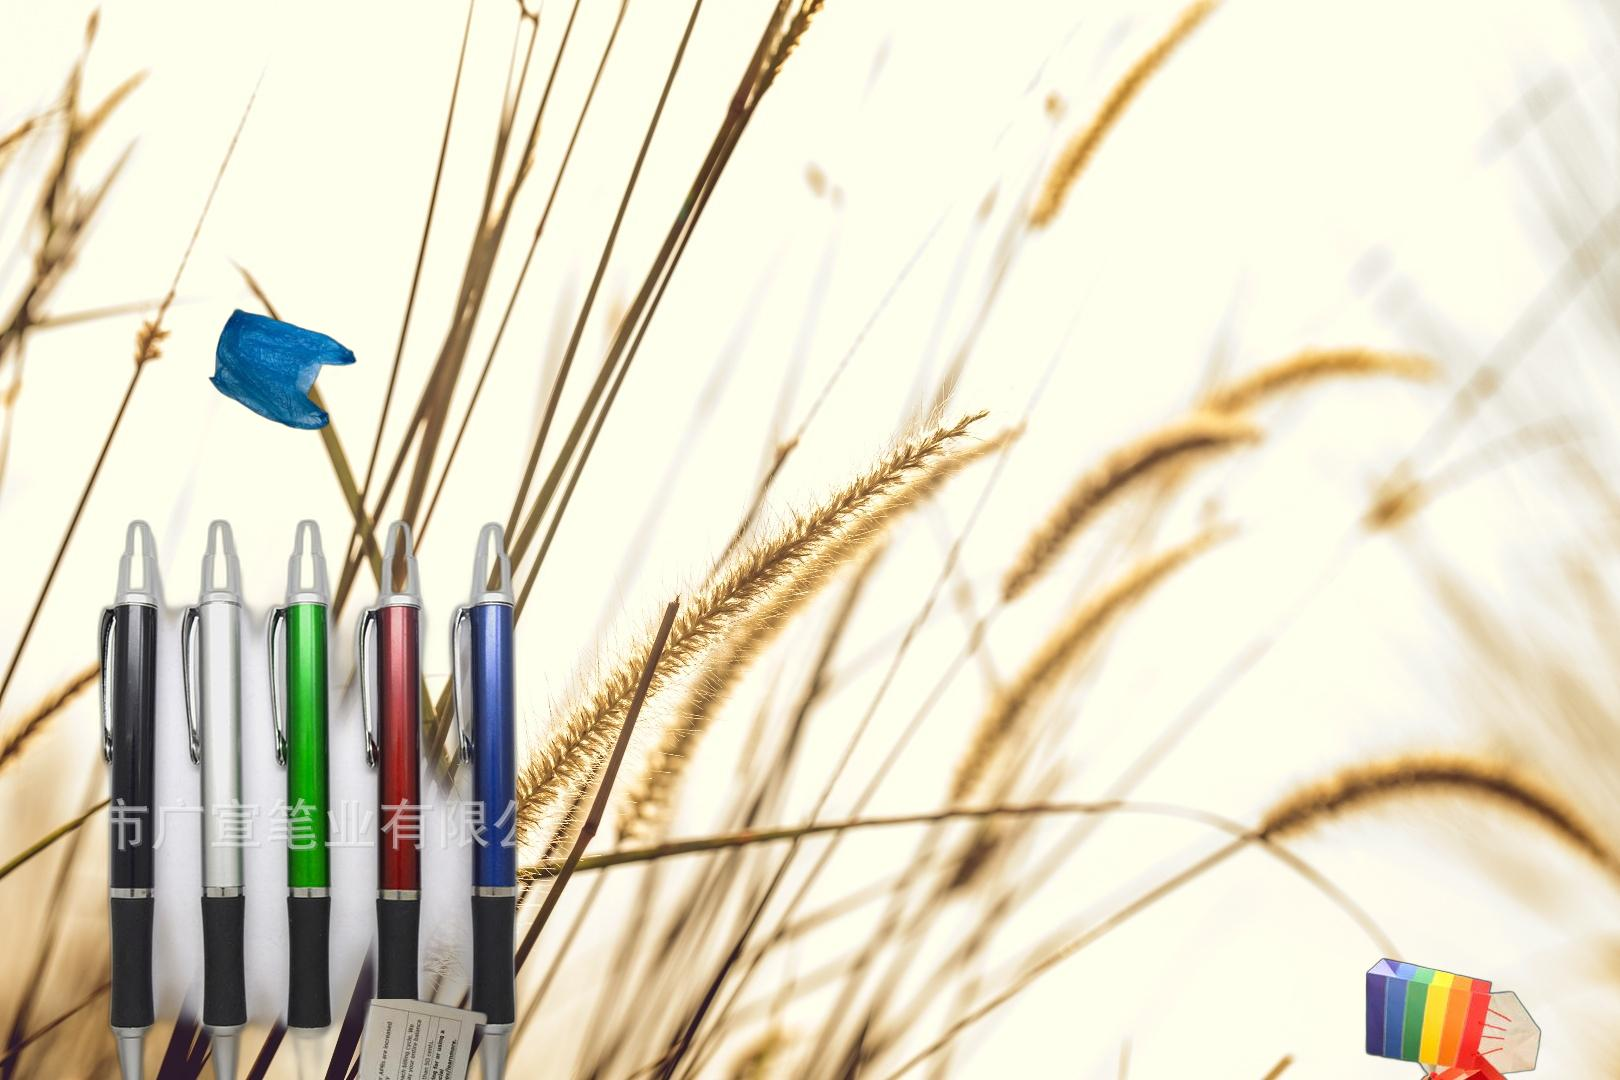paper: (313, 999, 494, 1080)
paper-bag: (1355, 957, 1550, 1080)
penholder: (90, 513, 553, 1080)
plastic-bag: (209, 306, 359, 433)
